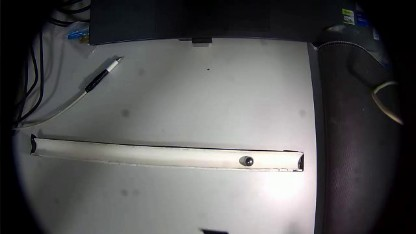gangzhu: (245, 155, 253, 167)
